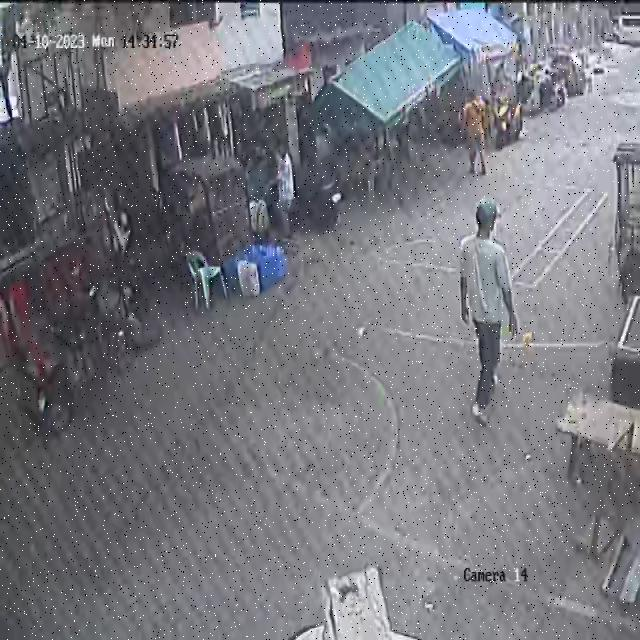human: (459, 198, 534, 432)
trash: (522, 319, 536, 360)
